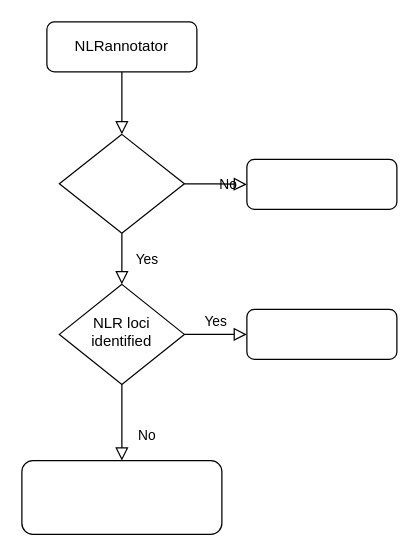
The diagram is 419 pixels wide and 556 high, and some of its shapes have lost their labels. Each missing label, with the centre of its shape:
"Comparative analysis with nhmmer approach" belongs at (121,496).
"Myrtaceae spp." belongs at (121,183).
